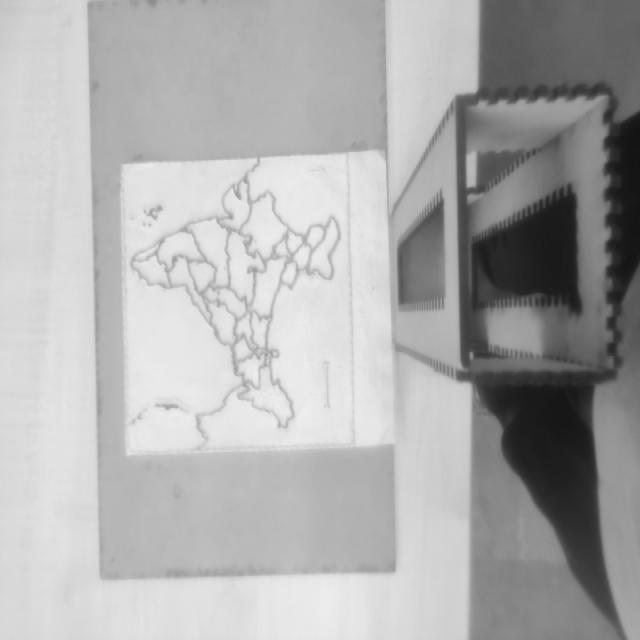map: (121, 154, 354, 453)
